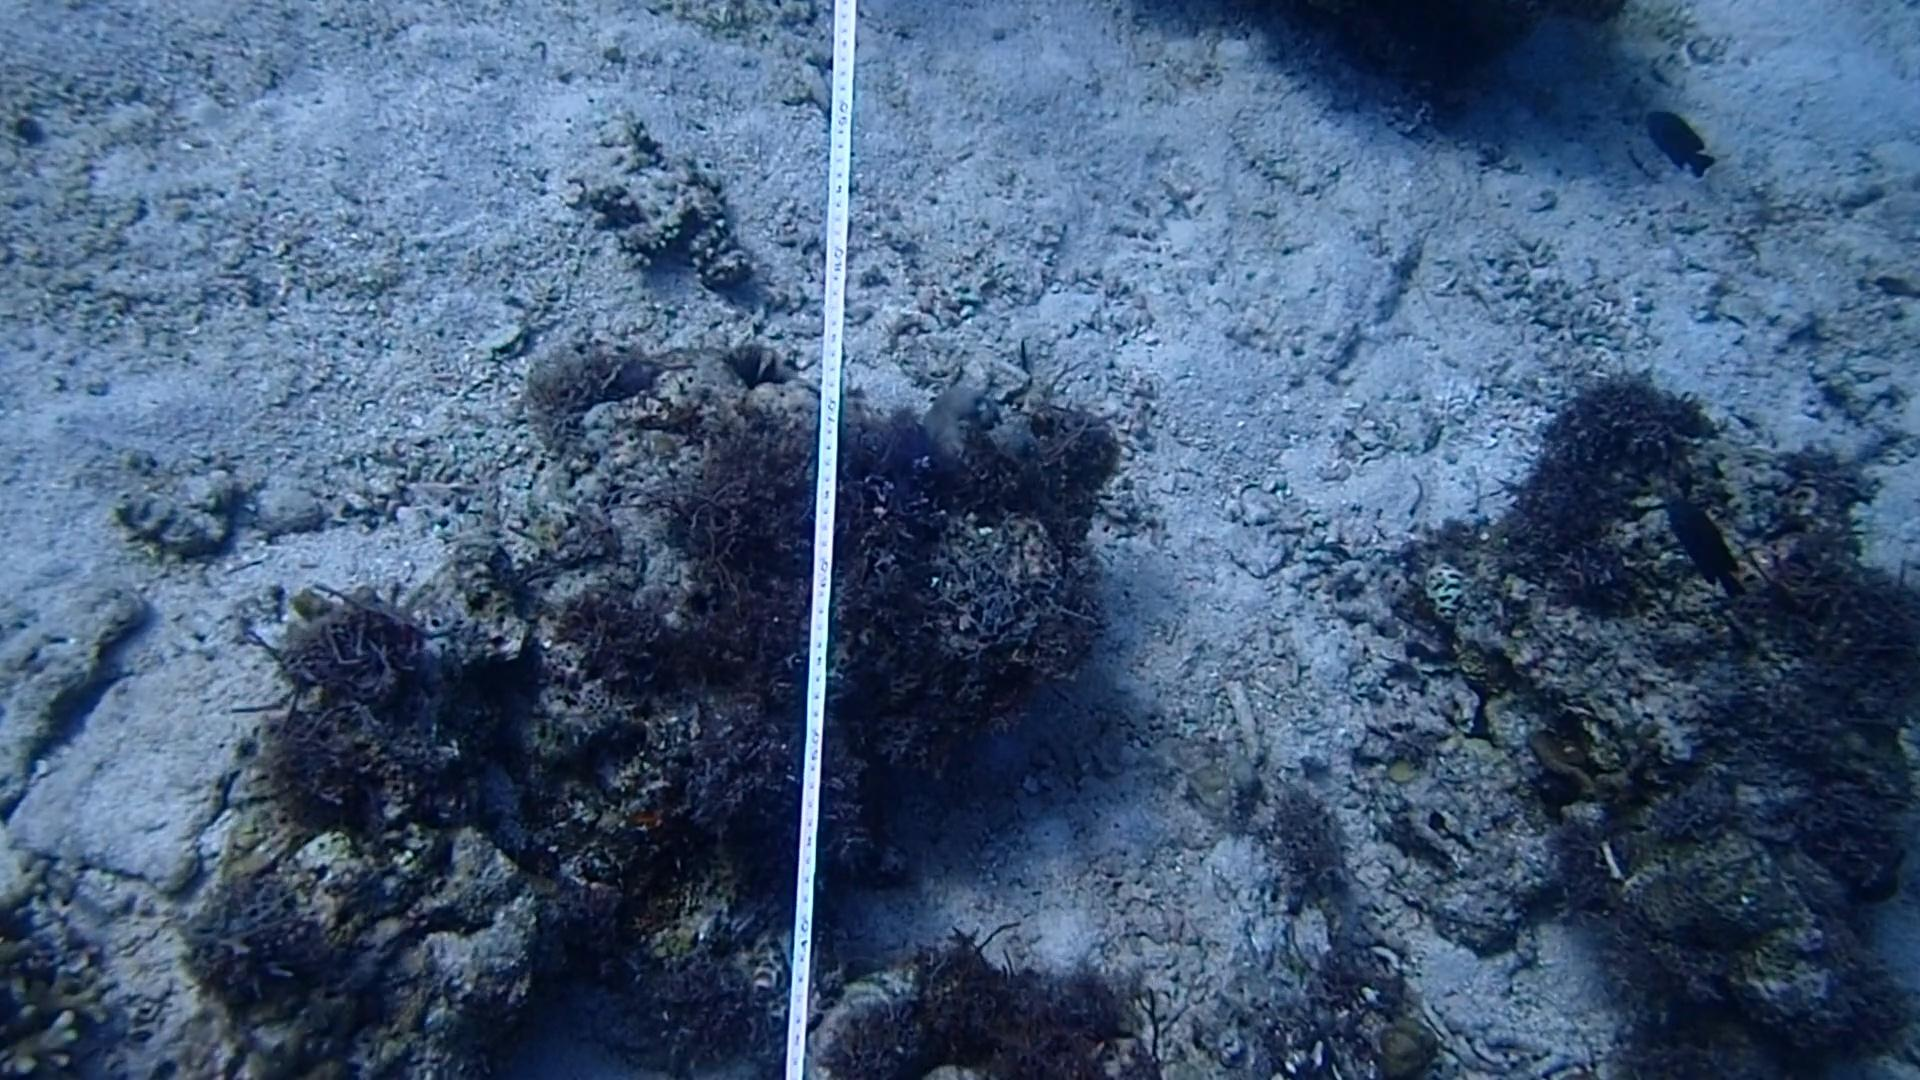Dark Fish: (1655, 491, 1756, 596), (1621, 92, 1727, 190)
